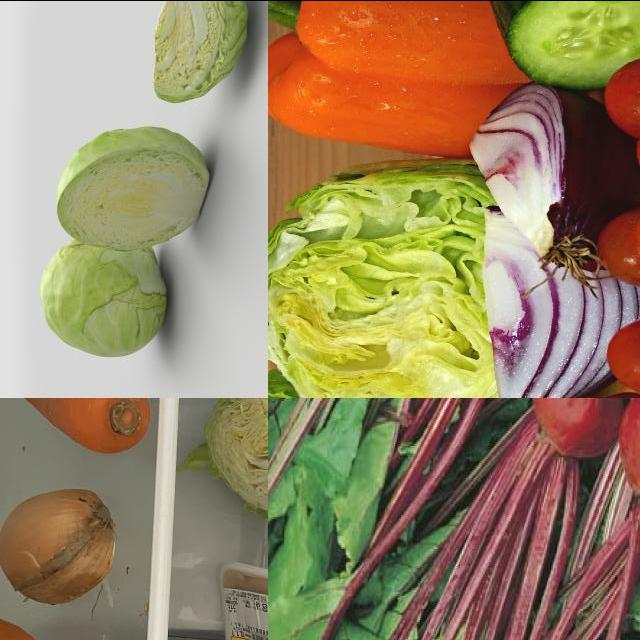beet: (532, 398, 627, 462), (615, 398, 640, 511)
bell_pepper: (269, 1, 579, 148)
cabbage: (269, 155, 594, 398), (54, 127, 214, 255), (41, 227, 172, 361), (147, 1, 250, 106)
carrot: (1, 398, 154, 457)
cucumber: (444, 1, 640, 103)
onion: (453, 76, 640, 282), (474, 204, 640, 398), (1, 484, 121, 608)
tomato: (587, 210, 640, 289), (595, 58, 640, 135), (603, 312, 640, 395)
